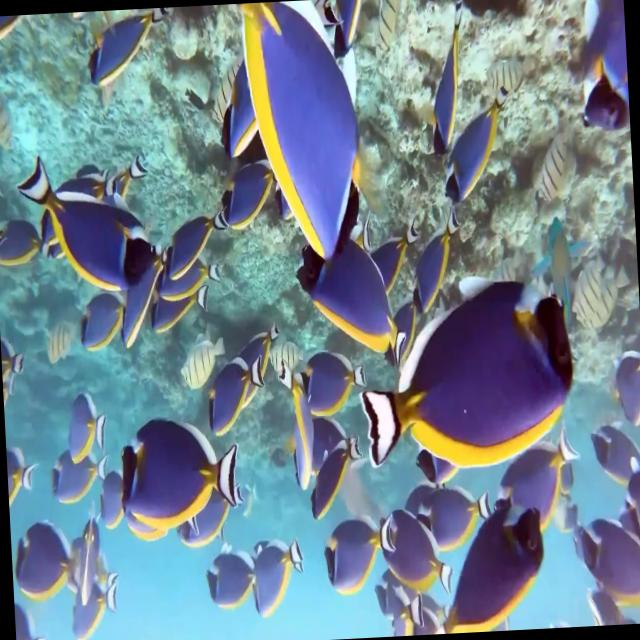fish: (357, 279, 574, 472), (244, 0, 370, 265), (21, 160, 159, 298), (436, 489, 547, 634), (292, 228, 406, 366), (121, 410, 241, 536), (438, 82, 522, 212), (494, 431, 580, 536), (423, 0, 473, 164), (572, 513, 640, 615), (377, 509, 455, 597), (320, 510, 400, 594), (404, 480, 490, 550), (401, 214, 461, 312), (158, 201, 228, 281), (296, 346, 366, 420), (247, 535, 308, 618), (208, 354, 266, 440), (306, 434, 364, 518), (284, 364, 319, 489), (207, 545, 260, 615), (64, 394, 107, 466)
